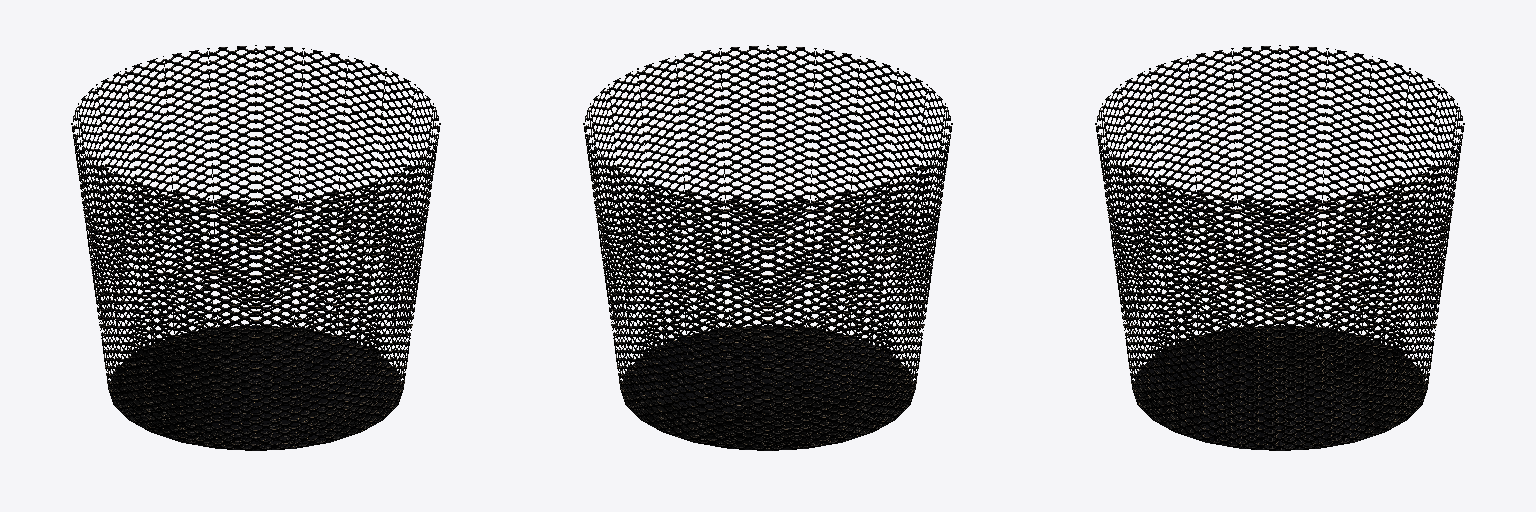
The picture shows the model from 3 angles: view 1: azimuth 30°, elevation 25°; view 2: azimuth 150°, elevation 25°; view 3: azimuth 270°, elevation 25°; orthographic projection.
Visible parts, largest first — view 1: mesh1_mesh1-geometry; view 2: mesh1_mesh1-geometry; view 3: mesh1_mesh1-geometry.
Part boxes in pixels (bbox=[...]): mesh1_mesh1-geometry: bbox=[71, 45, 440, 450]; mesh1_mesh1-geometry: bbox=[583, 45, 952, 450]; mesh1_mesh1-geometry: bbox=[1095, 45, 1464, 450].
Bounding box in the file's own units: 0.6168 × 0.4889 × 0.6168.
Materials: 3 (2 with a texture image).